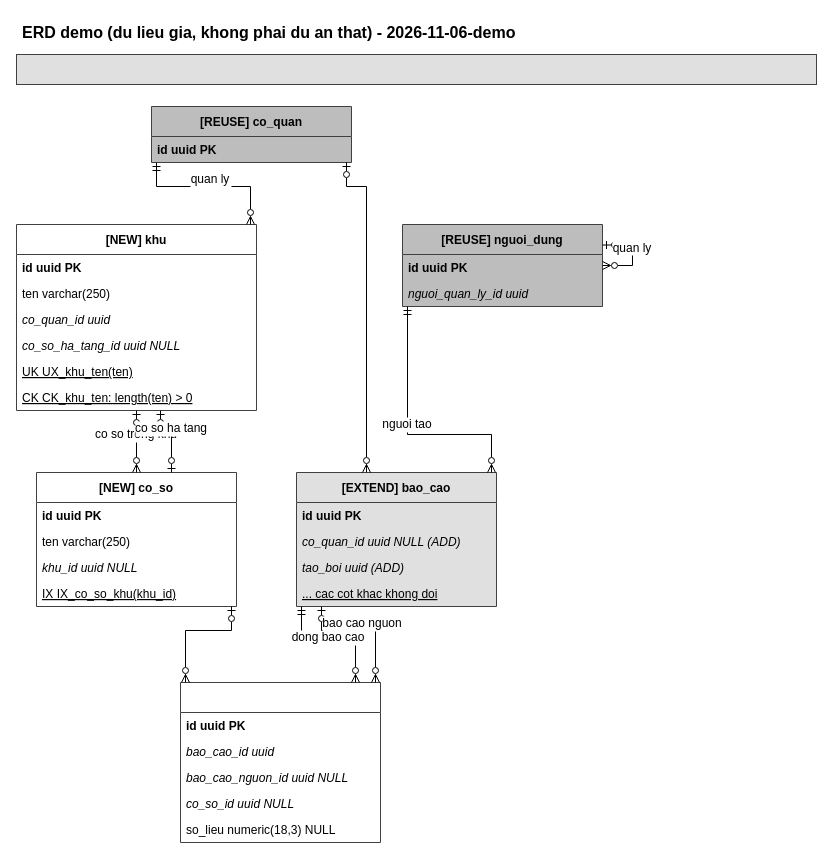
The diagram is 833 pixels wide and 859 high, and some of its shapes have lost their labels. The shapes that lost their labels are listed below. From the top down, each one's box as (x1, y1, x2, y2) in pixels, then its label:
(16, 54, 816, 84): Chu thich: [NEW] trang | [EXTEND] xam nhat | [REUSE] xam dam
(180, 682, 380, 842): [NEW] bao_cao_dong
